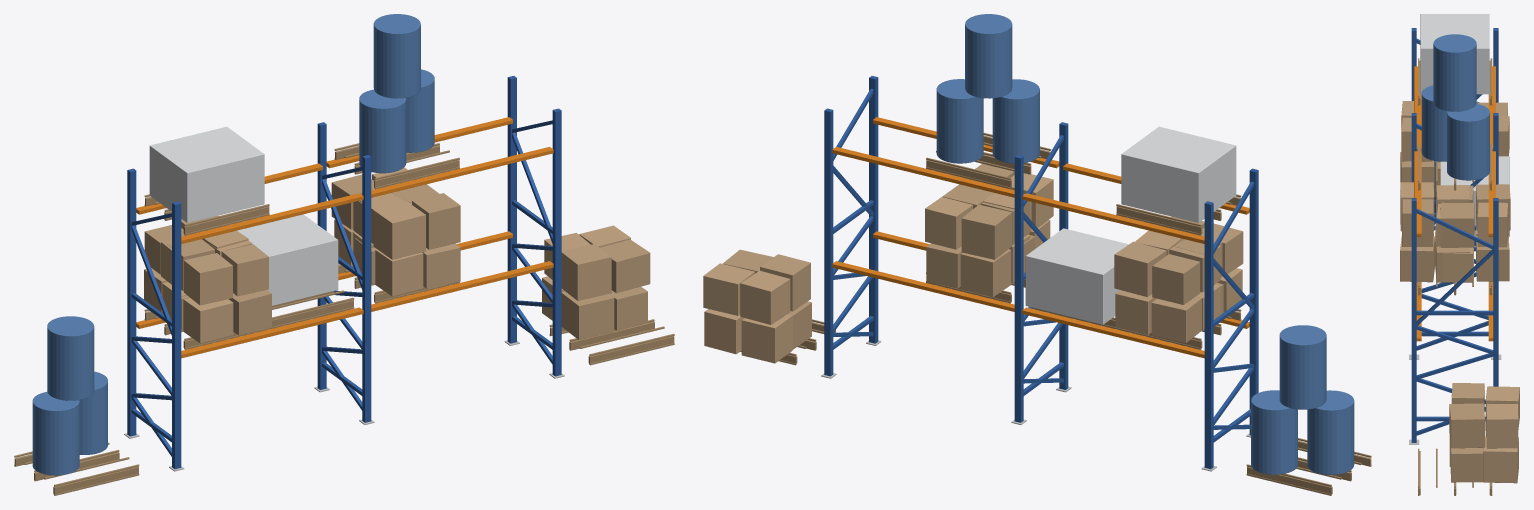
File: wh-rack.glb
3 views of the same model, side by side, from view 1: azimuth 30°, elevation 25°; view 2: azimuth 150°, elevation 25°; view 3: azimuth 270°, elevation 25° (orthographic). The views are drawn at different scales.
Parts seen in each view (by area): view 1: wrap_2_wrap, wrap_1_wrap, drums_1_c, drums_0_c, drums_0_a, drums_1_a, col_00, col_04, col_02, cartons_1_0_1_0_0, cartons_g_1_0_0, col_01 (+21 smaller); view 2: wrap_2_wrap, wrap_1_wrap, drums_0_c, drums_1_c, drums_1_b, drums_0_a, drums_0_b, drums_1_a, col_01, col_05, col_03, cartons_1_1_1_0_1 (+23 smaller); view 3: drums_1_c, wrap_2_wrap, drums_1_b, cartons_g_1_1_0, drums_1_a, cartons_g_1_1_1, col_04, cartons_1_1_1_1_0, cartons_g_0_1_1, cartons_g_0_1_0, col_05, cartons_1_0_0_1_0 (+39 smaller).
Part boxes in pixels (box(x1,y1,x2,y2)): wrap_2_wrap: box(149, 126, 264, 222); wrap_1_wrap: box(237, 214, 338, 305); drums_1_c: box(373, 14, 420, 98); drums_0_c: box(47, 316, 94, 400); drums_0_a: box(32, 392, 79, 475); drums_1_a: box(359, 89, 406, 173); col_00: box(172, 201, 181, 469); col_04: box(552, 108, 561, 376); col_02: box(362, 155, 371, 422); cartons_1_0_1_0_0: box(373, 201, 425, 259); cartons_g_1_0_0: box(561, 244, 611, 300); col_01: box(127, 168, 136, 436); wrap_2_wrap: box(1121, 126, 1236, 222); wrap_1_wrap: box(1025, 228, 1128, 324); drums_0_c: box(1279, 325, 1326, 409); drums_1_c: box(965, 14, 1012, 98); drums_1_b: box(936, 79, 983, 163); drums_0_a: box(1307, 390, 1354, 474); drums_0_b: box(1251, 390, 1297, 474); drums_1_a: box(992, 79, 1039, 163); col_01: box(1204, 201, 1213, 469); col_05: box(824, 108, 833, 376); col_03: box(1014, 155, 1023, 422); cartons_1_1_1_0_1: box(961, 204, 1012, 259); drums_1_c: box(1433, 34, 1476, 111); wrap_2_wrap: box(1420, 14, 1489, 94); drums_1_b: box(1447, 104, 1489, 180); cartons_g_1_1_0: box(1449, 403, 1485, 448); drums_1_a: box(1421, 85, 1446, 161); cartons_g_1_1_1: box(1486, 403, 1518, 448); col_04: box(1411, 198, 1416, 442); cartons_1_1_1_1_0: box(1440, 202, 1474, 247); cartons_g_0_1_1: box(1483, 436, 1518, 483); cartons_g_0_1_0: box(1450, 446, 1483, 482); col_05: box(1493, 198, 1498, 386); cartons_1_0_0_1_0: box(1400, 236, 1434, 282).
Size of the model in its own units: 8.8 by 5 by 1.61.
